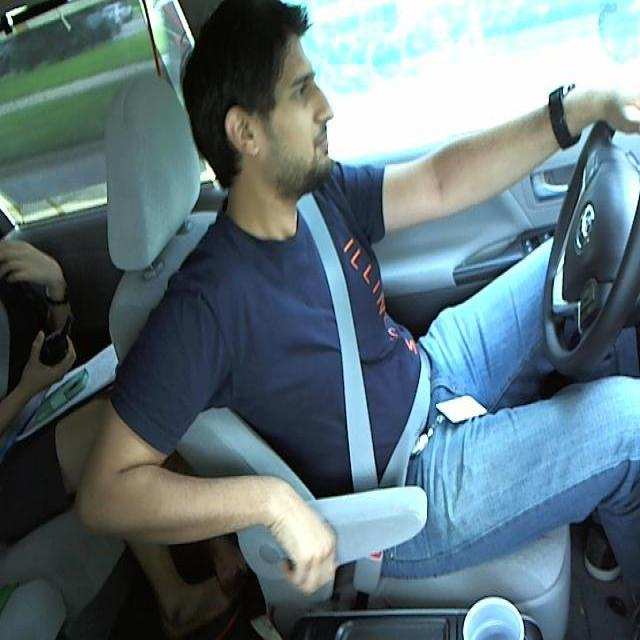seatbelt: (291, 211, 428, 517)
